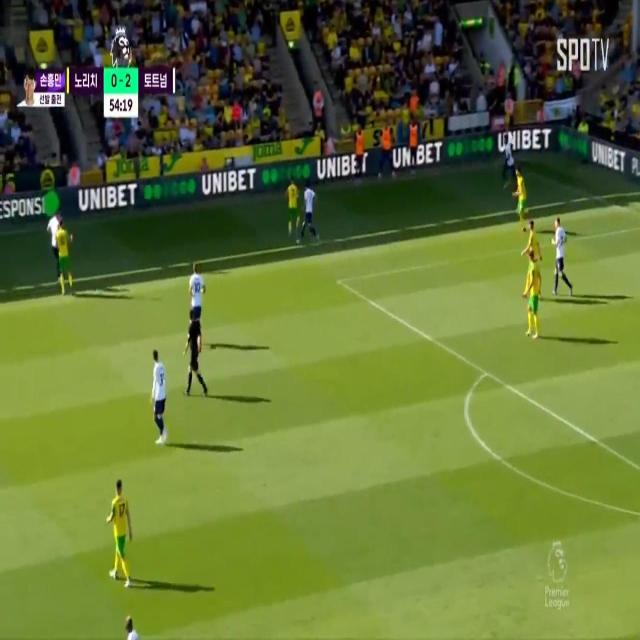player: (148, 348, 168, 446), (55, 210, 73, 288), (113, 476, 126, 580), (523, 217, 537, 295), (525, 254, 539, 332), (188, 260, 204, 326), (46, 208, 62, 268), (304, 180, 318, 247), (503, 126, 515, 193), (554, 220, 564, 295), (288, 174, 298, 248), (517, 167, 527, 230), (124, 607, 138, 640)
referee: (185, 302, 208, 400)
